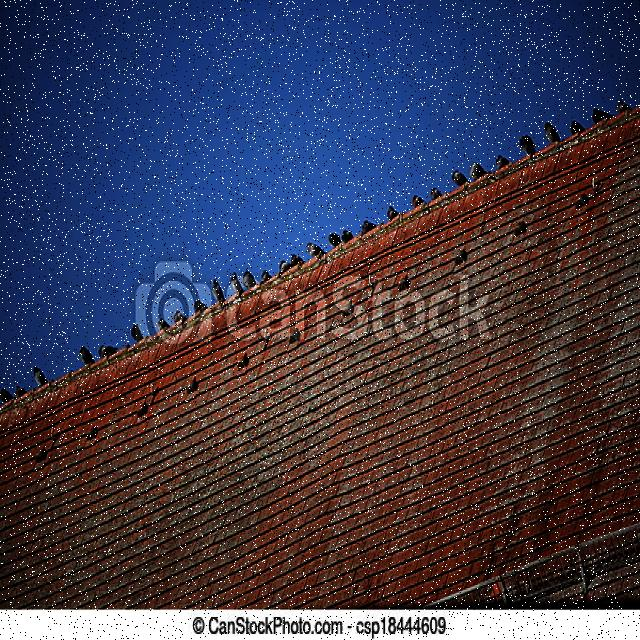bird: (520, 134, 536, 160), (280, 255, 300, 275), (544, 122, 562, 144), (306, 242, 326, 260), (592, 108, 614, 124), (212, 279, 226, 303), (230, 272, 244, 296), (33, 366, 48, 388), (451, 170, 469, 188), (468, 162, 486, 180), (79, 346, 95, 366), (185, 376, 199, 398), (48, 428, 62, 450), (242, 270, 257, 290), (98, 344, 118, 359), (136, 400, 149, 422), (130, 323, 144, 343), (570, 120, 586, 137), (360, 220, 377, 236), (34, 446, 50, 463), (453, 248, 468, 266), (494, 154, 510, 170), (85, 426, 99, 444), (236, 352, 249, 371), (617, 98, 632, 114), (328, 232, 342, 248), (0, 388, 14, 404), (278, 259, 290, 277), (591, 178, 603, 196), (194, 300, 208, 315), (412, 194, 426, 208), (290, 254, 304, 268), (157, 317, 170, 332), (387, 205, 399, 221), (15, 384, 28, 398), (430, 187, 443, 200), (260, 270, 272, 284), (342, 229, 354, 243)
